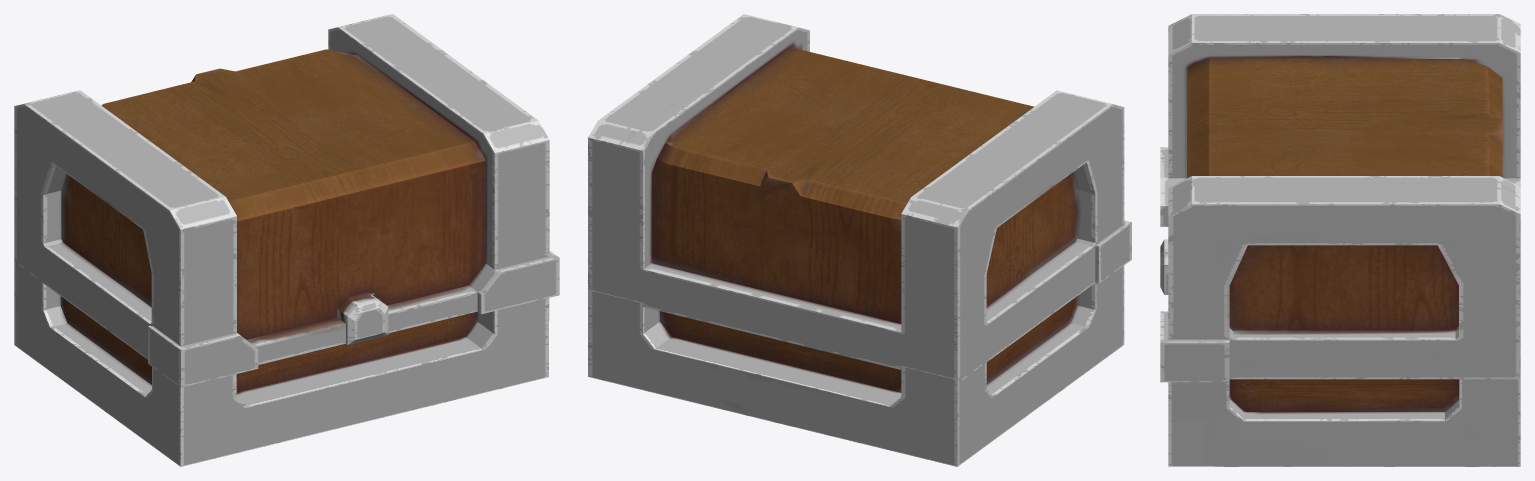
File: box_animation.fbx
3 views of the same model, side by side, from view 1: azimuth 30°, elevation 25°; view 2: azimuth 150°, elevation 25°; view 3: azimuth 270°, elevation 25° (orthographic). The views are drawn at different scales.
Visible parts, largest first — view 1: pCube1, pCube2; view 2: pCube1, pCube2; view 3: pCube1, pCube2.
Part boxes in pixels (x1,y1,x2,y2): pCube1: (14, 14, 559, 387); pCube2: (14, 262, 549, 466); pCube1: (588, 14, 1131, 383); pCube2: (588, 265, 1124, 466); pCube1: (1160, 14, 1520, 382); pCube2: (1168, 379, 1520, 466).
Size of the model in its own units: 79.18 by 49.62 by 61.69.
